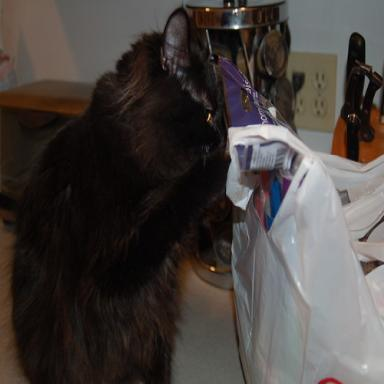plasticbag: (222, 55, 383, 383)
